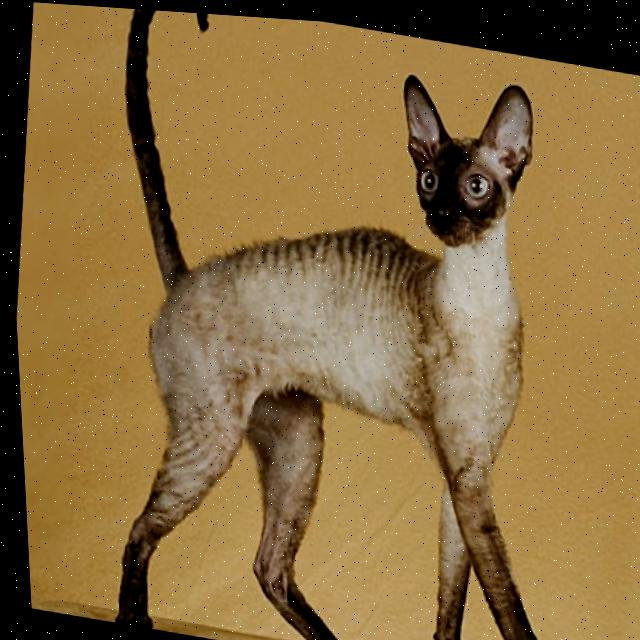Cornish Rex: (55, 3, 637, 640)
